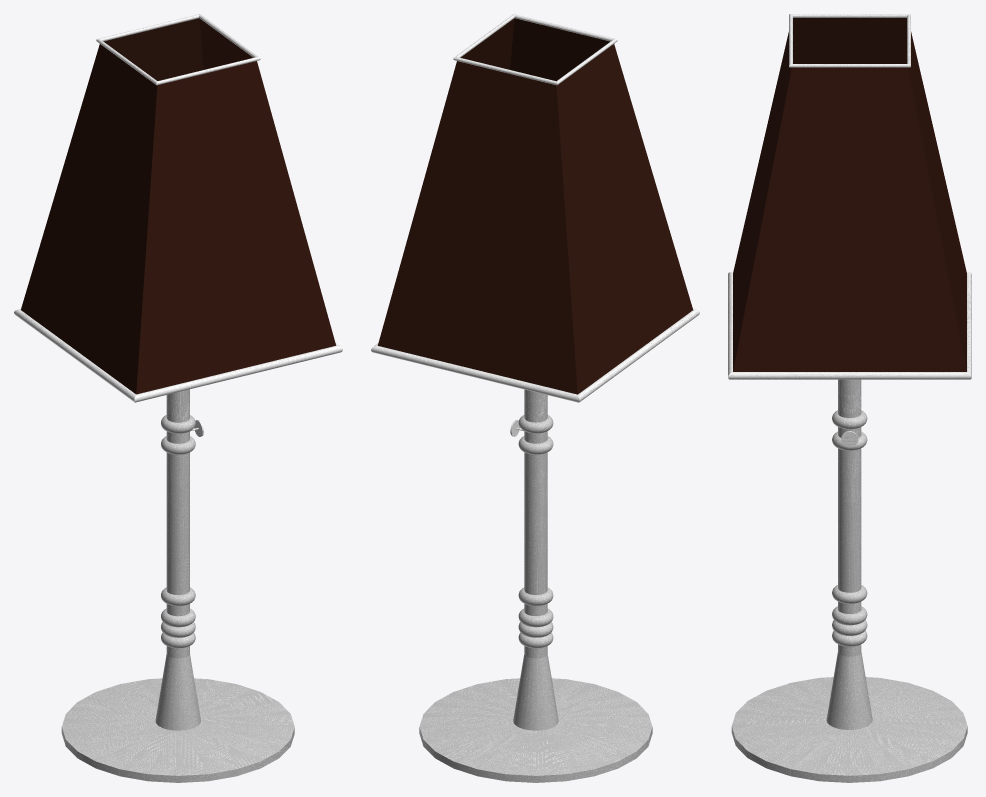
3 renders of one model, left to right at view 1: azimuth 30°, elevation 25°; view 2: azimuth 150°, elevation 25°; view 3: azimuth 270°, elevation 25°, orthographic.
Visible parts, largest first — view 1: mesh15_mesh15-geometry, mesh1_mesh1-geometry, mesh10_mesh10-geometry, mesh13_mesh13-geometry; view 2: mesh15_mesh15-geometry, mesh1_mesh1-geometry, mesh10_mesh10-geometry, mesh13_mesh13-geometry; view 3: mesh15_mesh15-geometry, mesh1_mesh1-geometry, mesh10_mesh10-geometry, mesh13_mesh13-geometry.
Boxes of the visible parts, box(x1,y1,x2,y2) form: mesh15_mesh15-geometry: box(21, 18, 335, 394); mesh1_mesh1-geometry: box(61, 678, 294, 782); mesh10_mesh10-geometry: box(155, 389, 200, 730); mesh13_mesh13-geometry: box(14, 14, 342, 402); mesh15_mesh15-geometry: box(377, 18, 692, 394); mesh1_mesh1-geometry: box(419, 678, 652, 782); mesh10_mesh10-geometry: box(513, 389, 558, 730); mesh13_mesh13-geometry: box(371, 14, 699, 402); mesh15_mesh15-geometry: box(733, 18, 966, 371); mesh1_mesh1-geometry: box(731, 677, 967, 782); mesh10_mesh10-geometry: box(826, 379, 872, 729); mesh13_mesh13-geometry: box(728, 14, 971, 379).
Size of the model in its own units: 0.2902 by 0.9119 by 0.2902.
